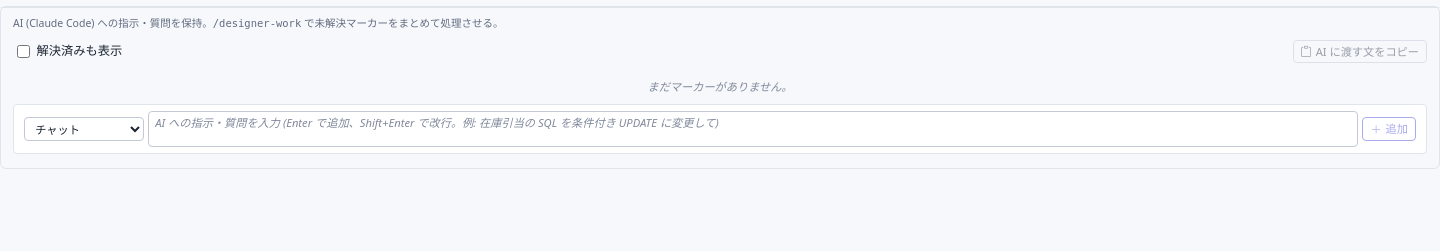
RemoteMarkerPanel › 保存に失敗したら、読み直して、サーバの内容に戻す
Replace the text in the text box with test id "marker-add-input" with "失敗するもの". click: (753, 129)
box: [148,111,1358,147]
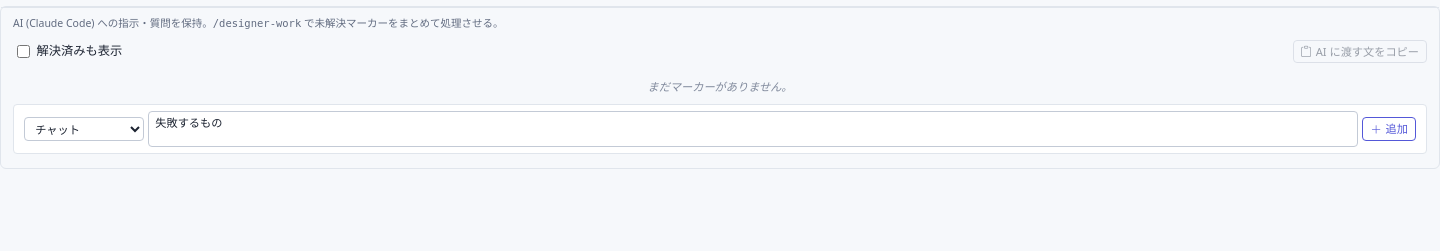
Click the button with test id "marker-add-btn". click: (1389, 129)
box: [1362,117,1416,141]
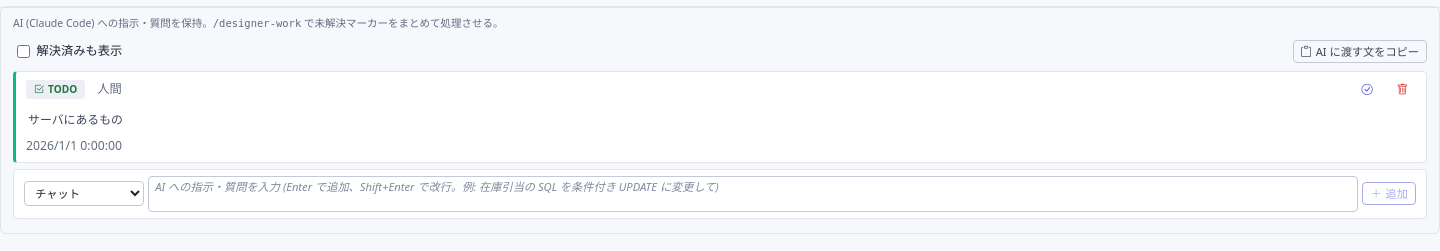
expect the text "失敗するもの" is not shown: met
expect the text "サーバにあるもの" is shown: met, box [28,111,123,127]
